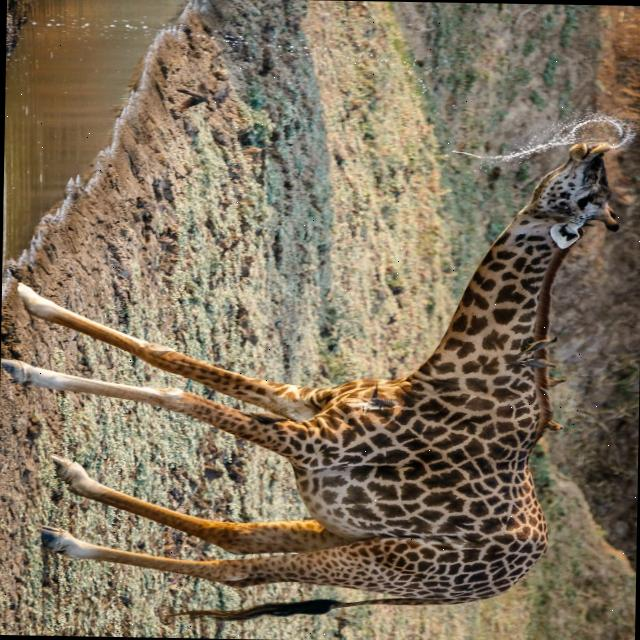Giraffe: (0, 130, 625, 629)
